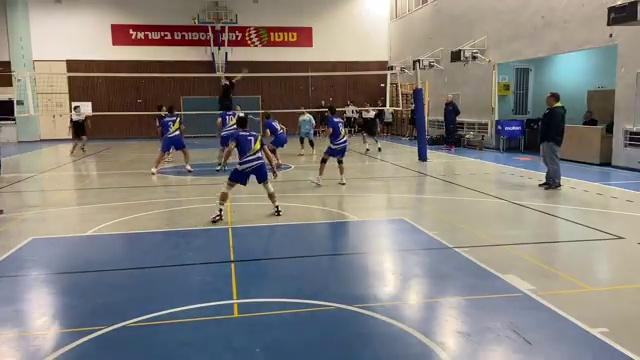ball: (188, 14, 201, 29)
